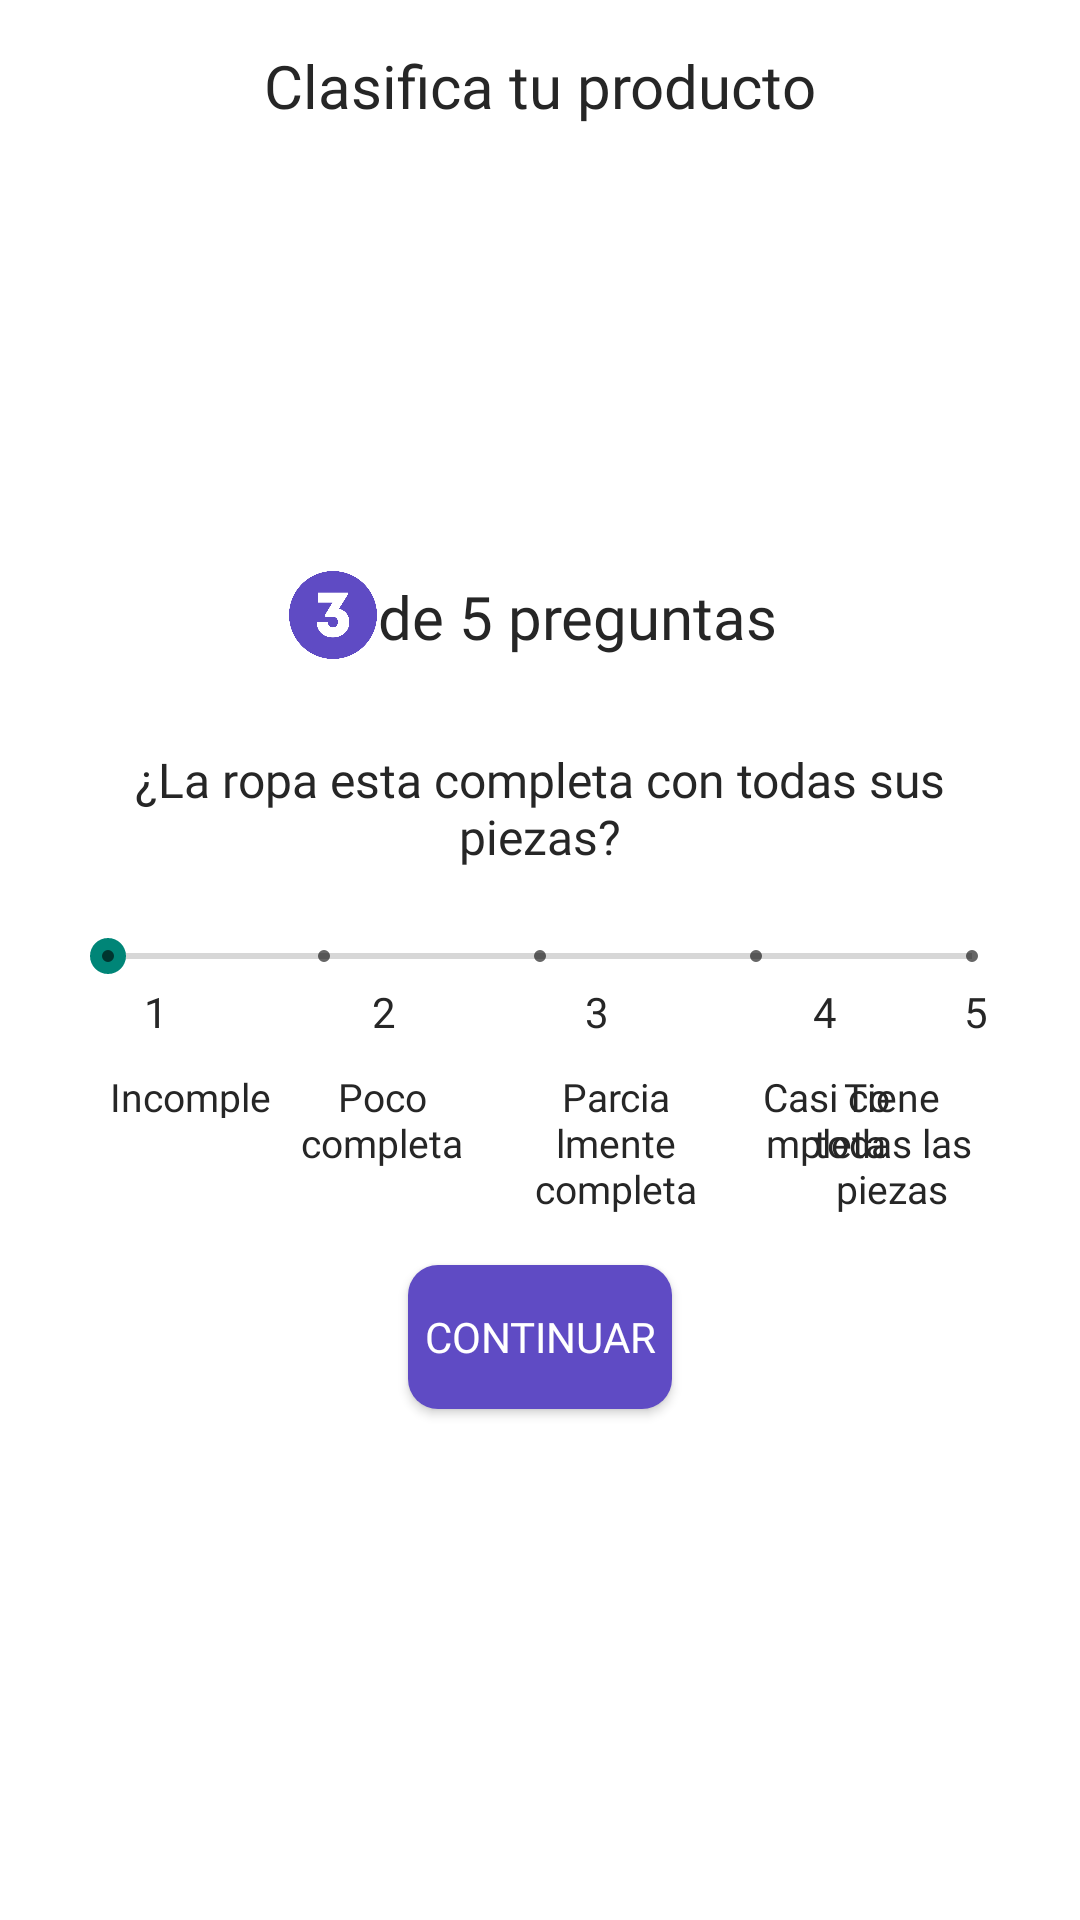

Locate icon controls on the screen. Image size 1080x1920, boxes as (x1, y1, x2, y2).
numero: (289, 571, 377, 659)
